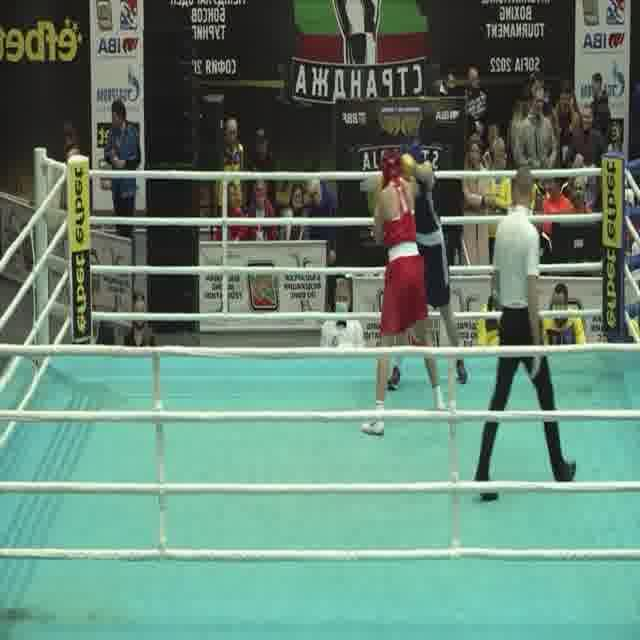blue-player: (383, 140, 469, 392)
red-player: (359, 139, 450, 442)
referee: (470, 170, 578, 505)
